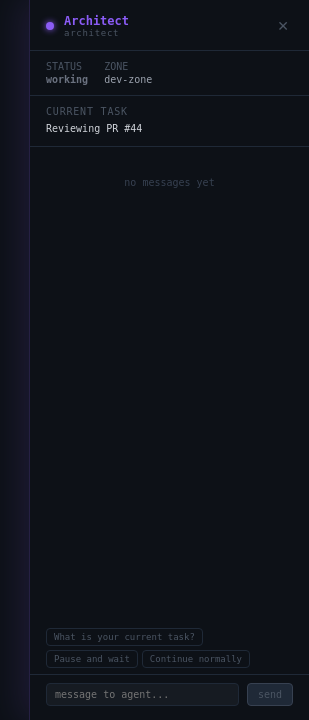
Test case: AgentDetailPanel › shows error when fetch fails
In the field labelled "message to agent": (142, 694) x1=46 y1=683 x2=239 y2=706, type "test"
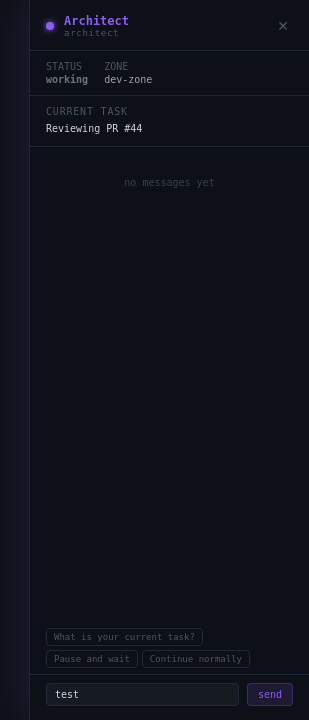
Click the button with aria-label "send message": (270, 694) x1=247 y1=683 x2=293 y2=706
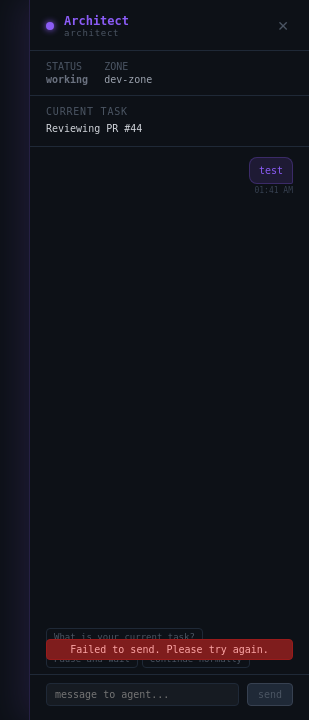
Result: the text "Failed to send. Please try again." is shown at x1=46 y1=639 x2=293 y2=660
